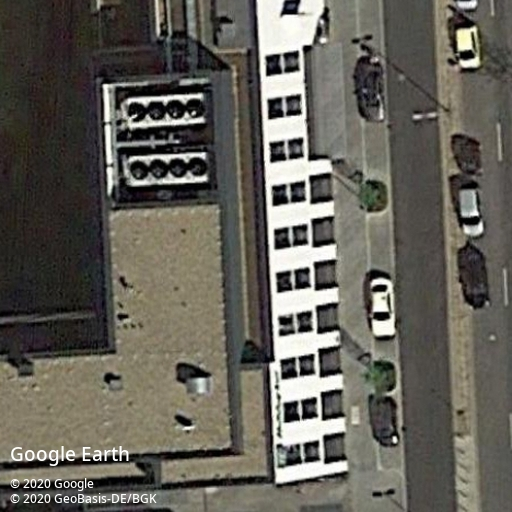Chiller: (119, 91, 209, 135), (123, 146, 213, 190)
